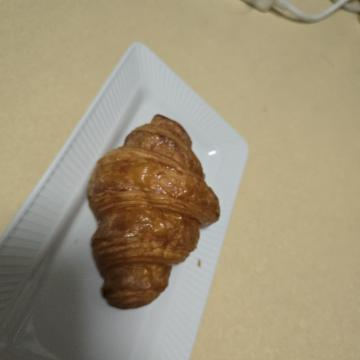croissant: (98, 129, 322, 288)
